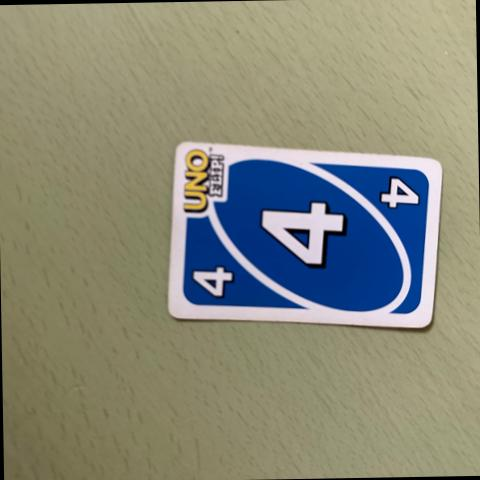lblue-4: (176, 251, 256, 312)
